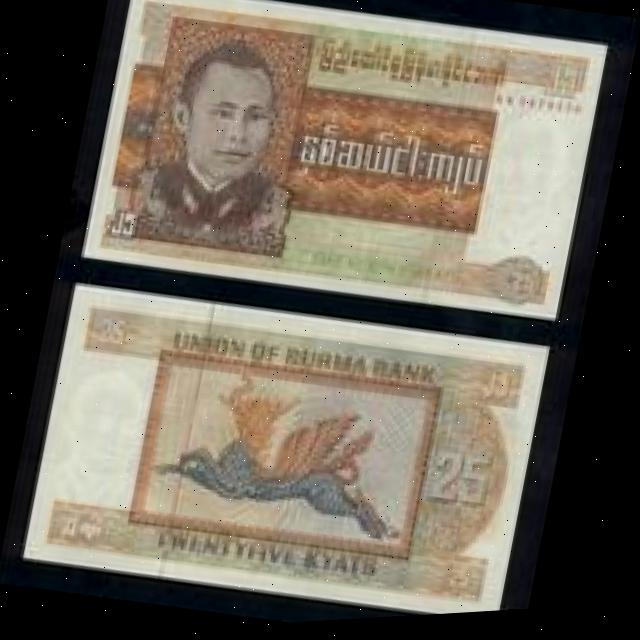banknote: (26, 265, 538, 639), (84, 0, 600, 342)
